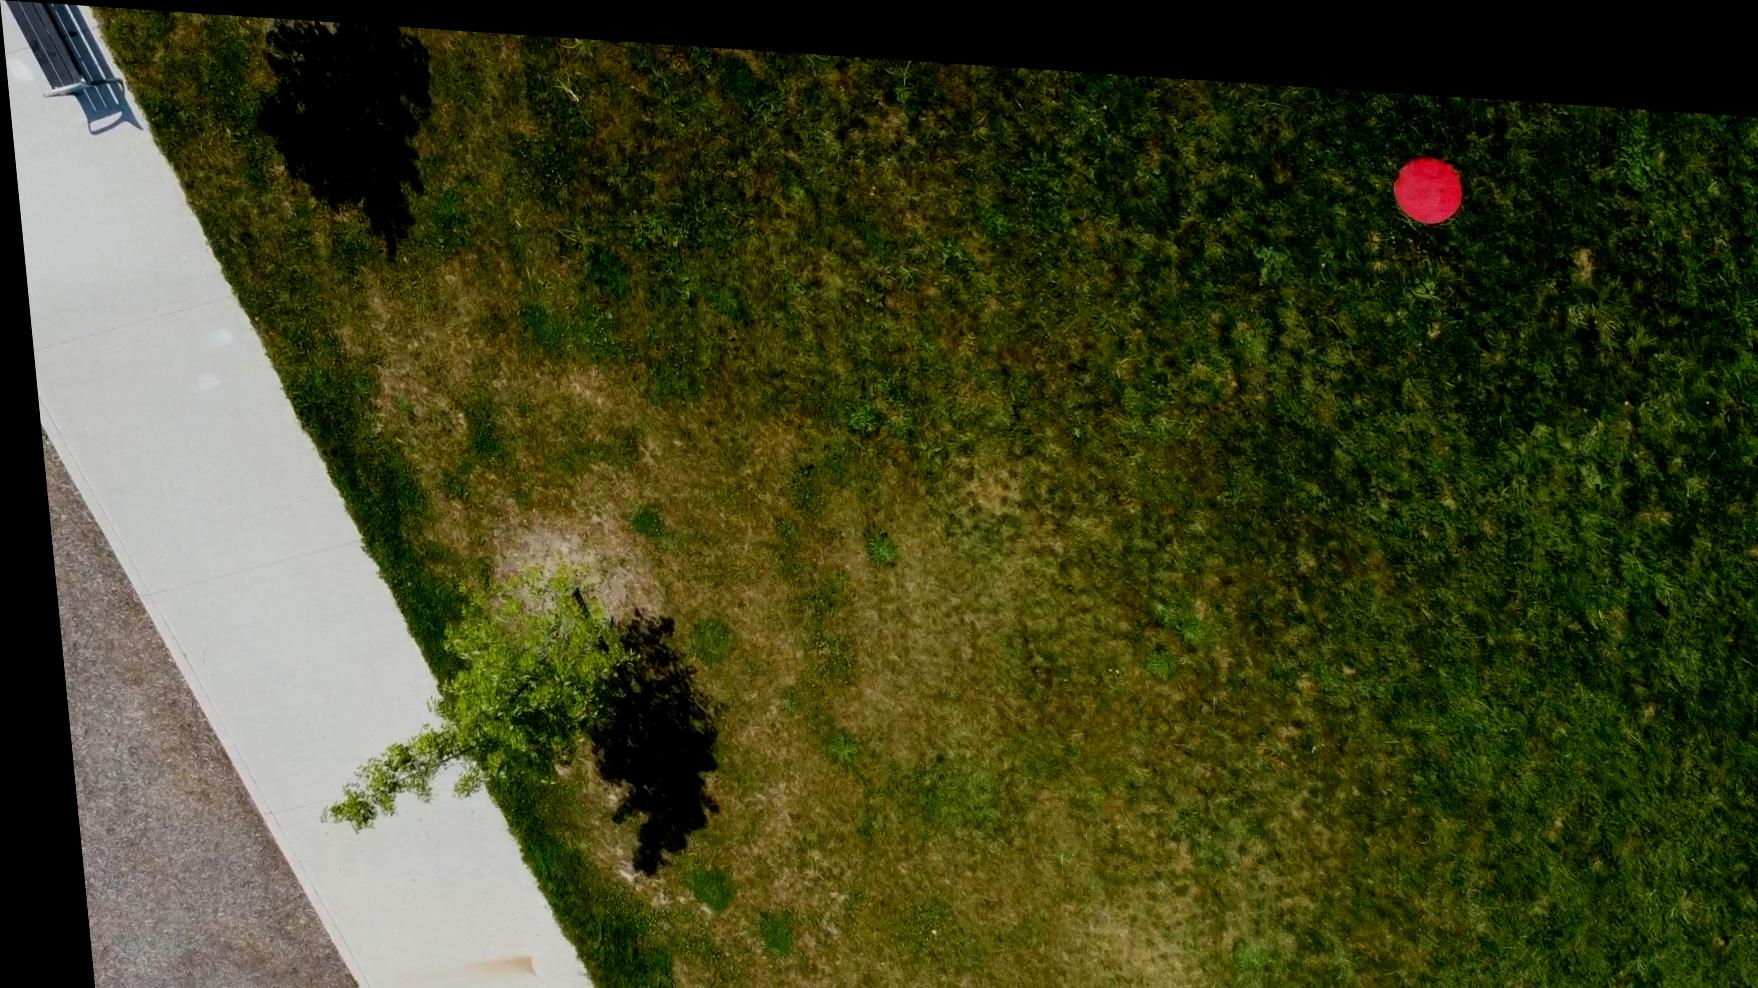Red: (1385, 128, 1469, 213)
